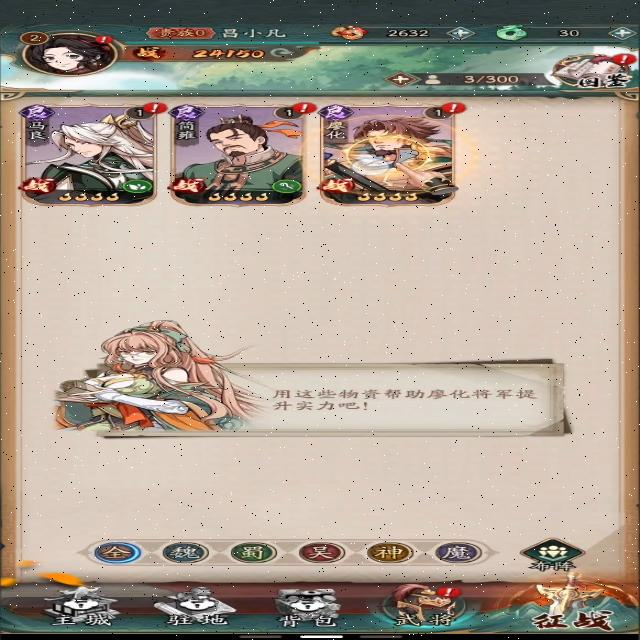hint-guide: (32, 319, 596, 444), (319, 114, 481, 192)
hint-reddot: (436, 99, 473, 116), (609, 51, 640, 68), (286, 100, 320, 115), (140, 100, 170, 116), (432, 586, 465, 600), (90, 33, 116, 47)
navigation-fight: (494, 572, 635, 632)
navigation-hero: (382, 581, 470, 631)
navigation-myHeroes: (322, 100, 482, 209), (14, 99, 164, 210), (165, 100, 312, 208)
navigation-role: (11, 27, 128, 80)
navigation-station-off: (140, 580, 250, 631)
operation-camp: (365, 540, 420, 566), (431, 542, 489, 566), (228, 541, 284, 565), (295, 542, 350, 566), (96, 540, 144, 565), (162, 541, 212, 564)
operation-gallery: (554, 51, 631, 90)
operation-oneKeyDeployment: (510, 538, 605, 574)
